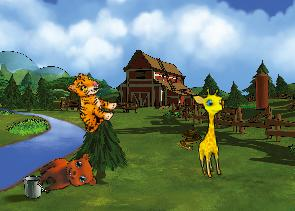bear: (32, 145, 102, 207)
giraffe: (191, 86, 232, 179)
tiger: (54, 69, 124, 137)
